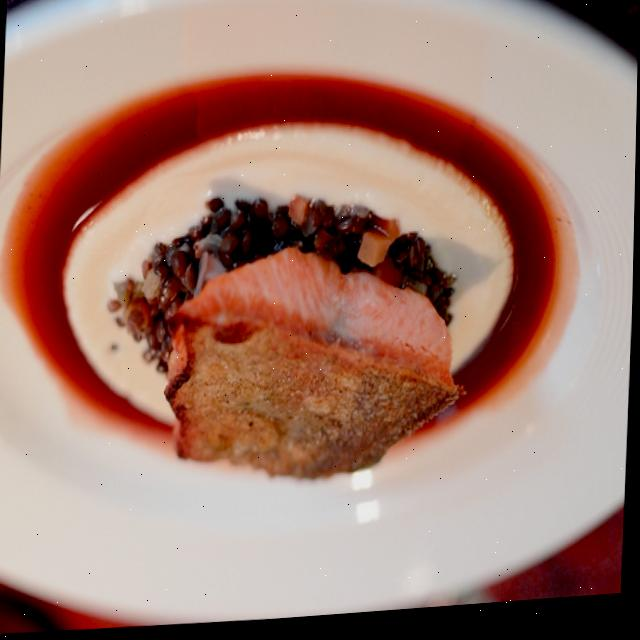牛肉菜式: (0, 0, 640, 638)
